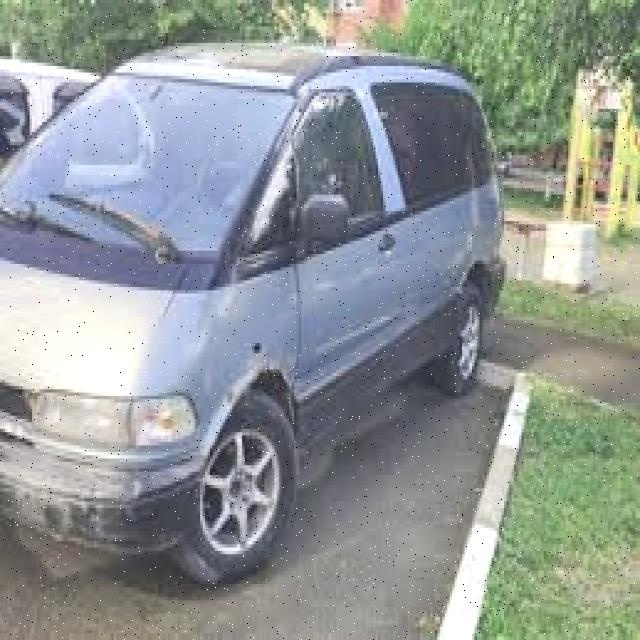Van: (0, 43, 507, 587)
